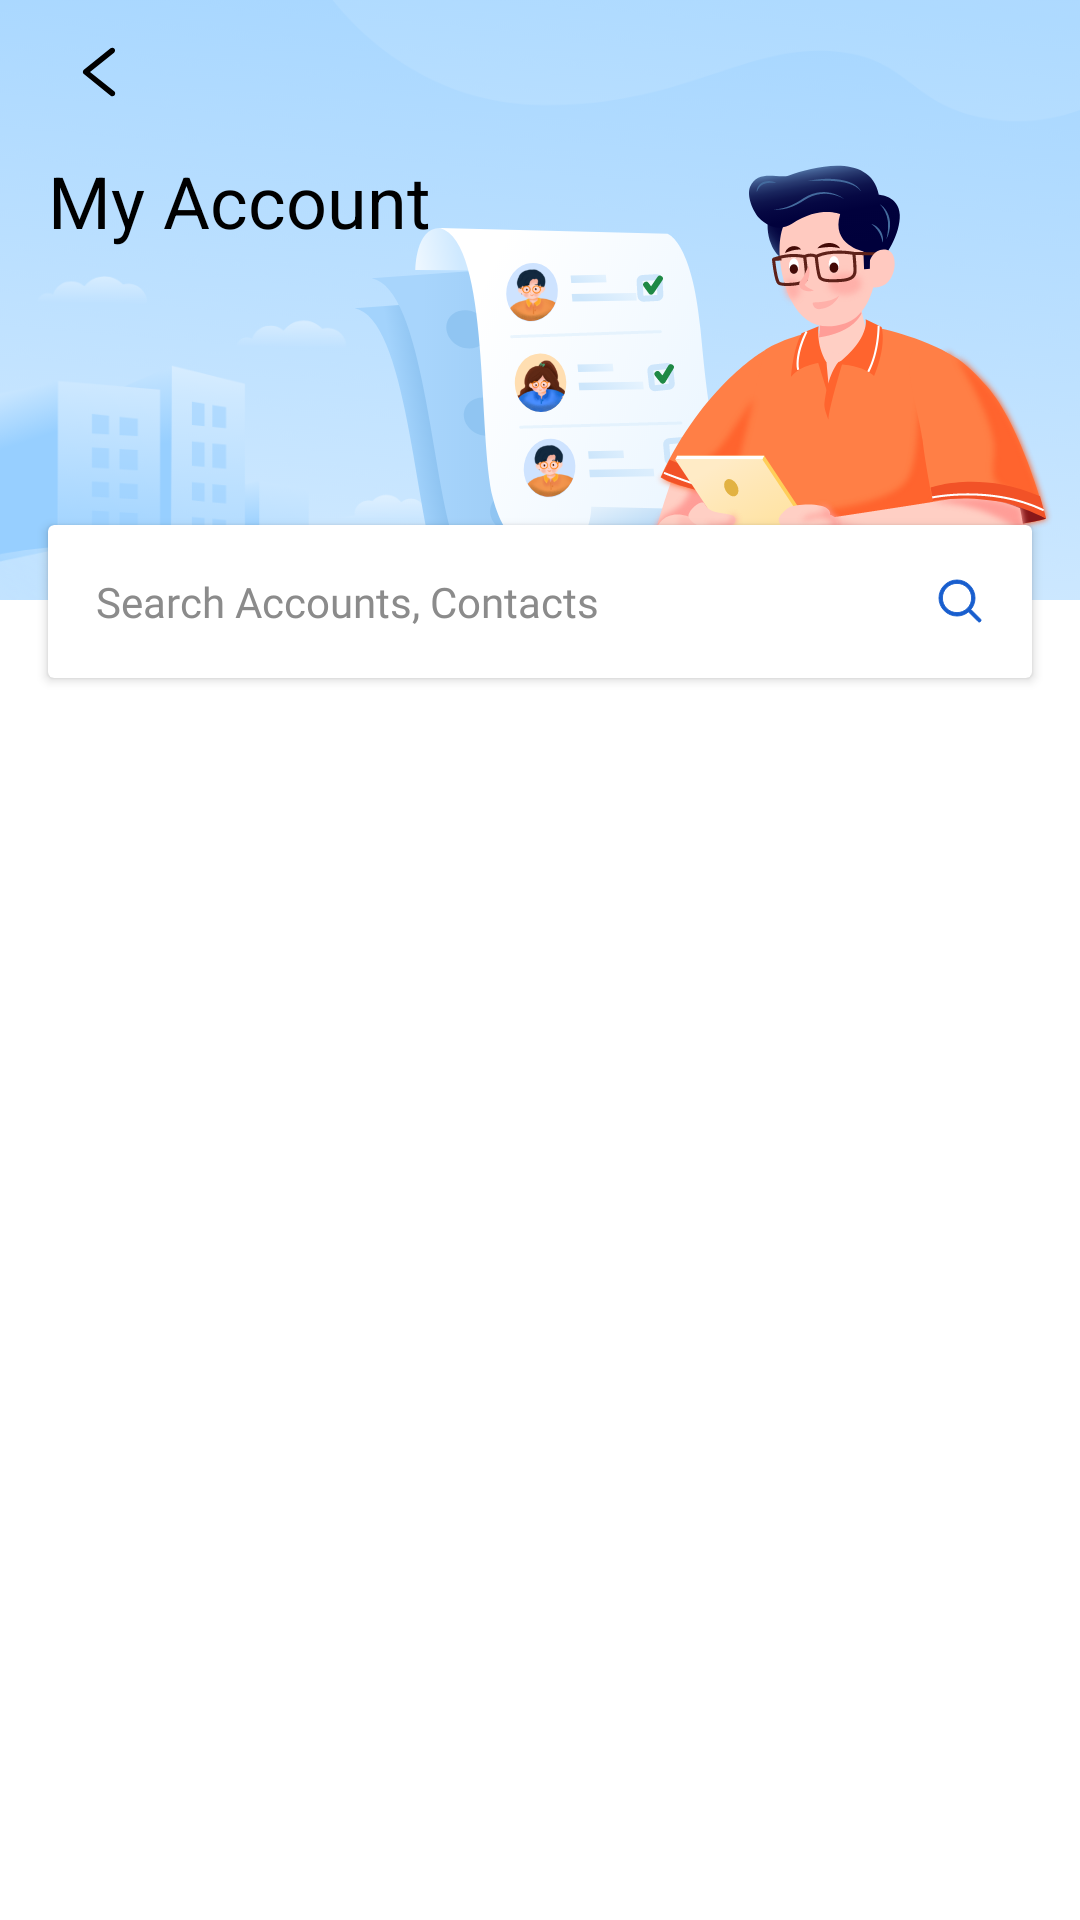

Icons on this 1080px x 1920px Android screen, each with the point to tap as (x,y):
back: (99,72)
